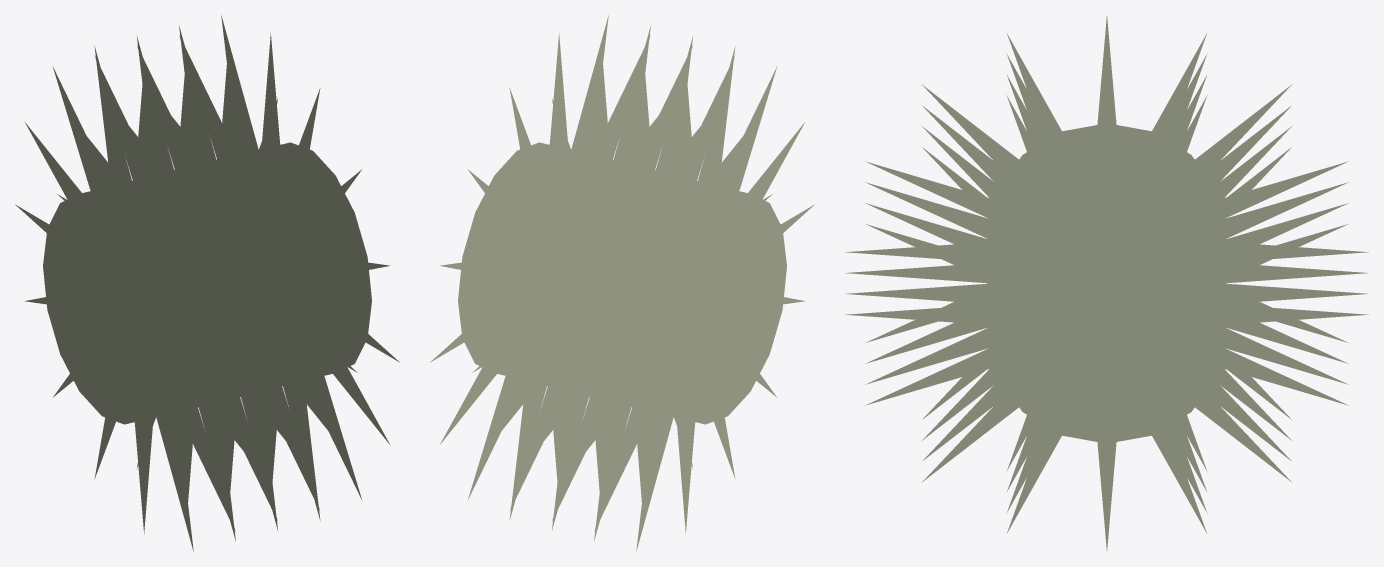
The model's file is spikewheel.dae.
3 renders of one model, left to right at view 1: azimuth 30°, elevation 25°; view 2: azimuth 150°, elevation 25°; view 3: azimuth 270°, elevation 25°, orthographic.
Visible parts, largest first — view 1: cylinder1-0; view 2: cylinder1-0; view 3: cylinder1-0.
Boxes of the visible parts, x1,y1,x2,y2 form: cylinder1-0: [15, 15, 399, 551]; cylinder1-0: [430, 15, 814, 551]; cylinder1-0: [845, 16, 1368, 550].
Size of the model in its own units: 103 by 220 by 220.
